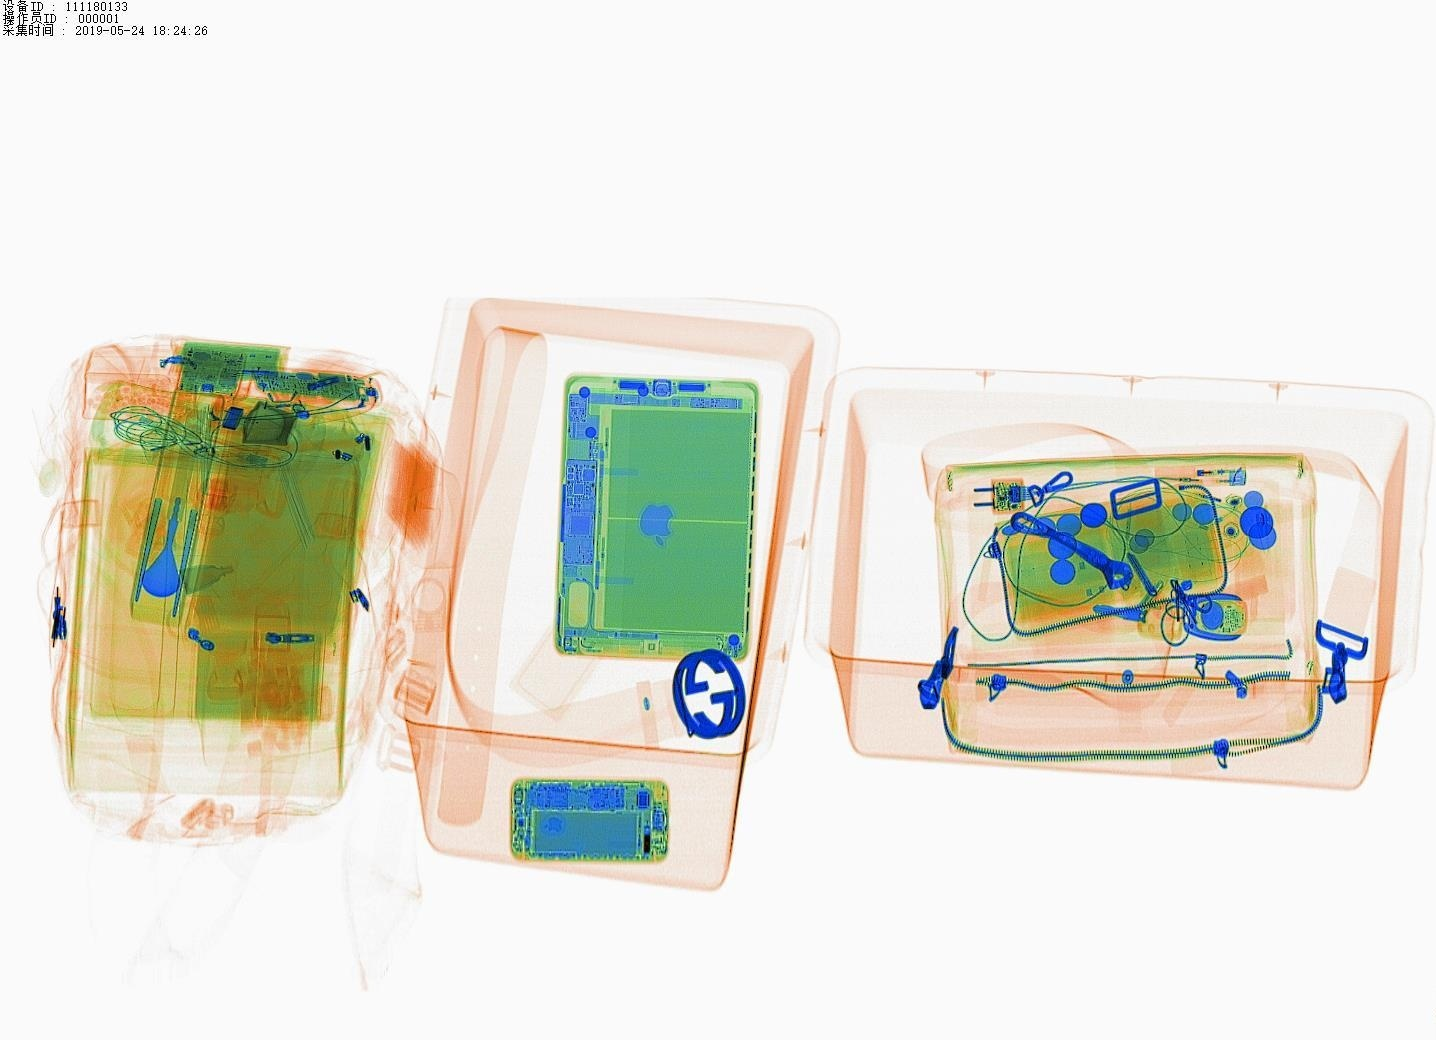NonmetallicFire: (1149, 457, 1255, 500)
